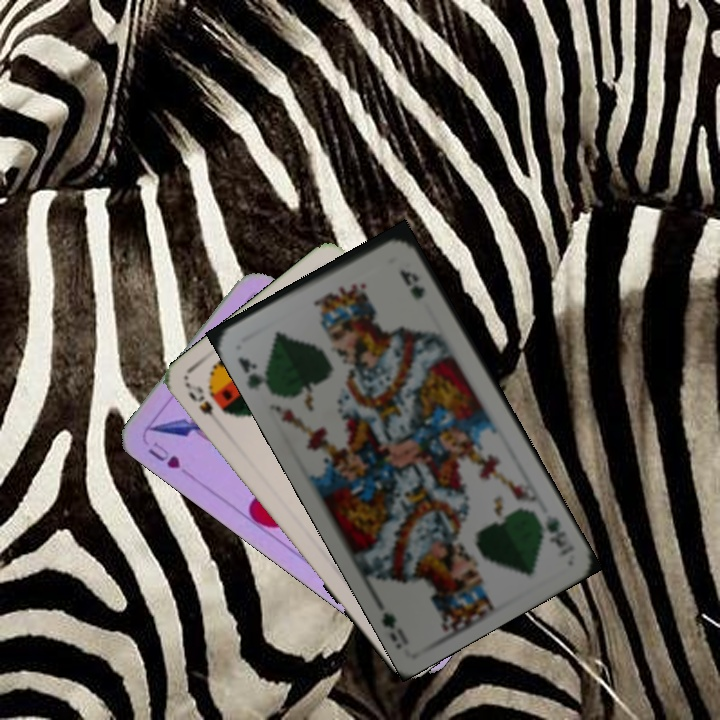GK: (234, 353, 271, 394), (541, 511, 570, 551)
HU: (143, 437, 183, 472)
SO: (183, 380, 216, 418)
